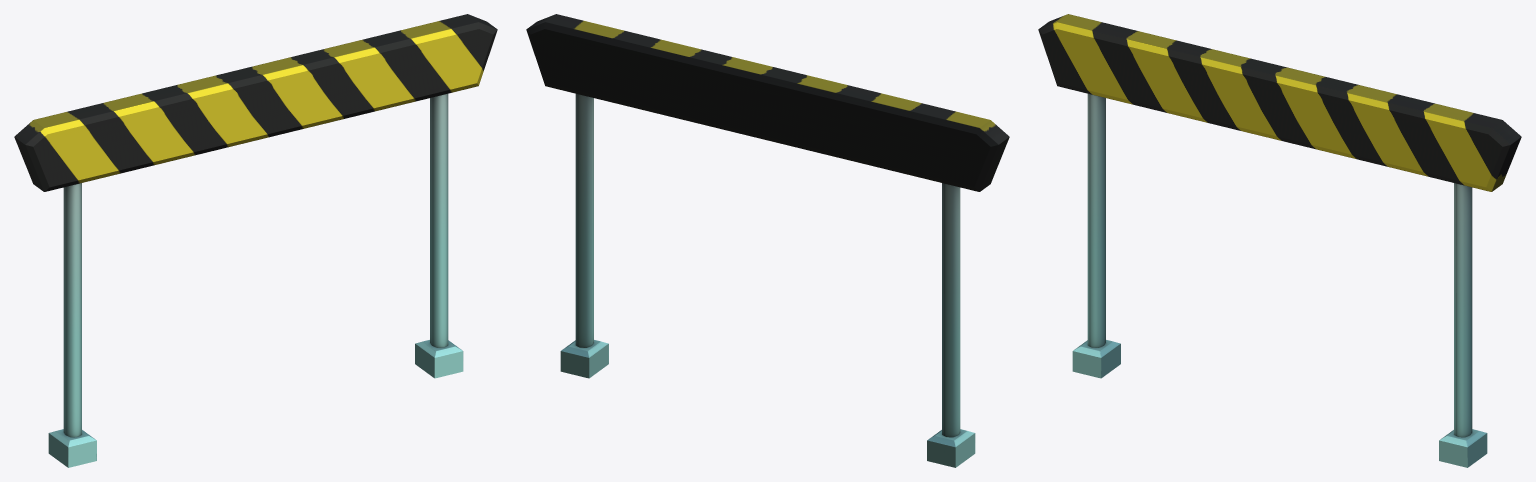
The model's file is Barrier_4_NewSize.fbx.
3 views of the same model, side by side, from view 1: azimuth 30°, elevation 25°; view 2: azimuth 150°, elevation 25°; view 3: azimuth 330°, elevation 25° (orthographic).
Visible parts, largest first — view 1: Barrier_4; view 2: Barrier_4; view 3: Barrier_4.
Boxes of the visible parts, x1,y1,x2,y2 form: Barrier_4: [14, 14, 497, 467]; Barrier_4: [526, 14, 1009, 467]; Barrier_4: [1038, 14, 1521, 467].
Bounding box in the file's own units: 0.6688 × 0.4619 × 0.0481.
